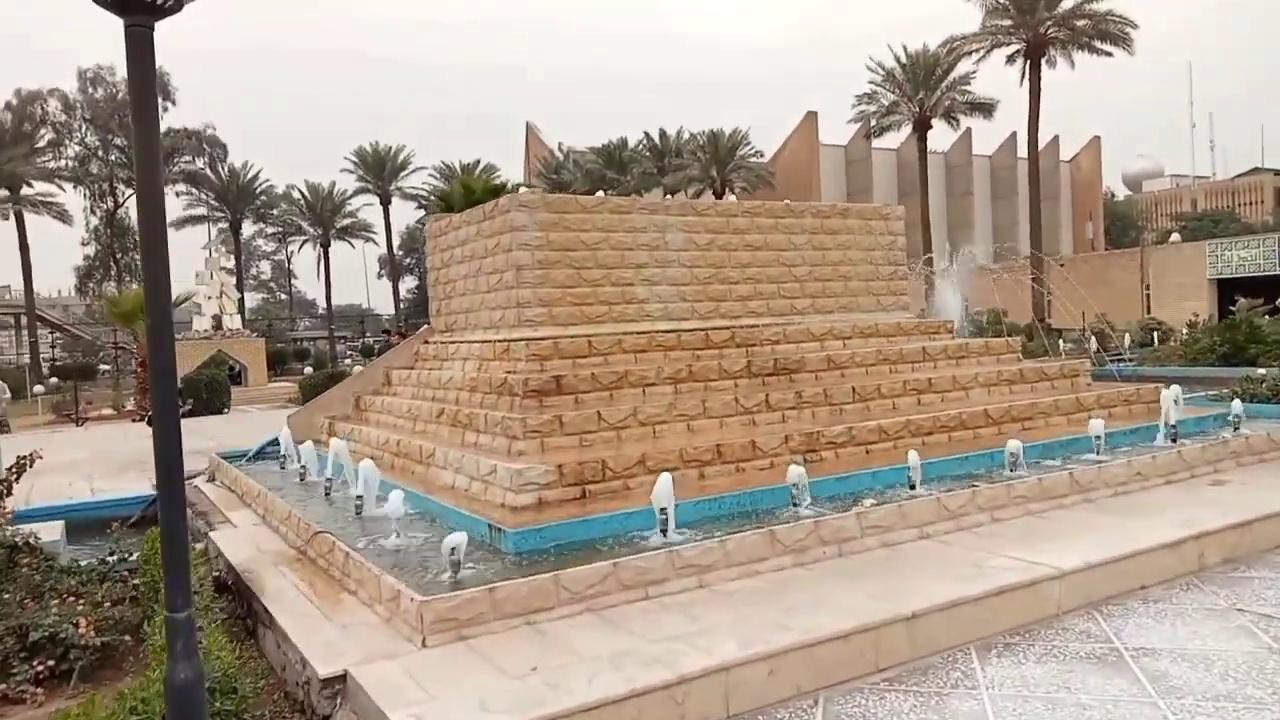fountain: (213, 384, 1261, 601), (358, 487, 431, 550), (647, 469, 681, 542), (378, 487, 411, 549), (353, 455, 382, 514), (439, 529, 469, 581), (1158, 382, 1183, 444), (783, 456, 811, 508), (295, 438, 320, 482), (1228, 392, 1245, 433), (906, 448, 921, 490)
person: (1123, 330, 1132, 355)
tree: (90, 0, 214, 718), (941, 0, 1139, 344), (40, 60, 222, 409), (847, 37, 998, 305), (0, 85, 74, 390), (277, 177, 378, 369), (168, 157, 278, 329), (530, 123, 775, 200), (339, 139, 428, 330), (98, 284, 198, 423), (667, 124, 775, 200), (98, 286, 149, 421), (261, 208, 307, 326), (421, 157, 507, 214), (579, 134, 655, 196), (634, 125, 693, 198), (530, 141, 605, 195), (50, 358, 99, 426), (0, 447, 43, 520), (396, 219, 427, 316)
